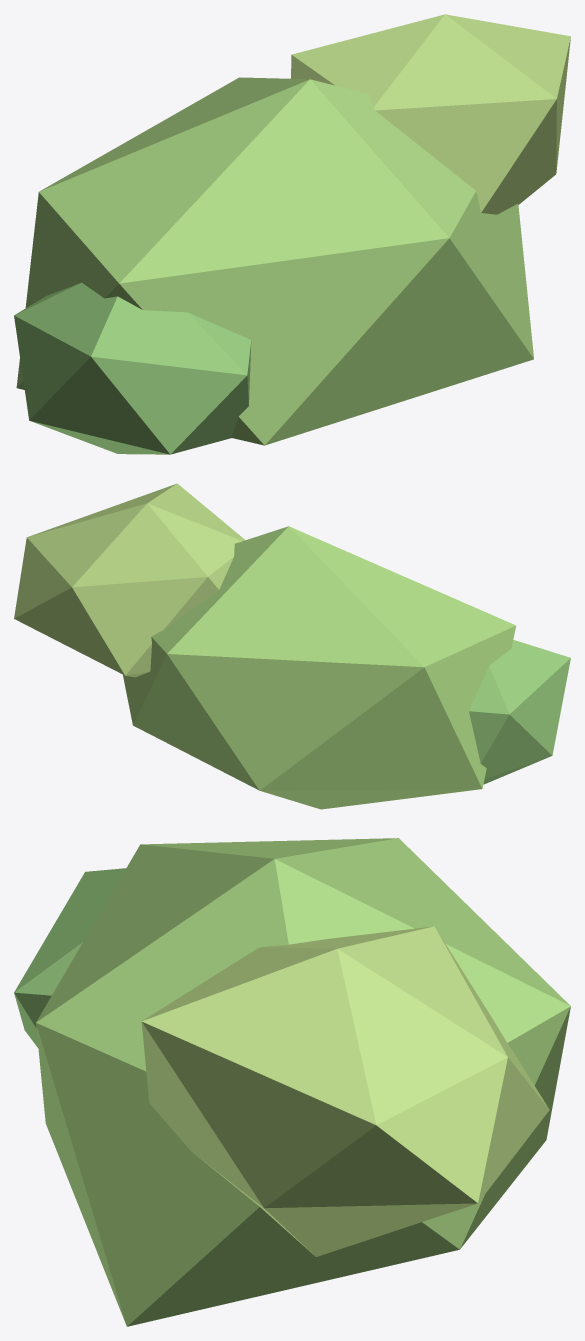
File: PG_Bush_A.fbx
The picture shows the model from 3 angles, top to bottom: view 1: azimuth 30°, elevation 25°; view 2: azimuth 150°, elevation 25°; view 3: azimuth 270°, elevation 25°; orthographic projection. The views are drawn at different scales.
Visible parts, largest first — view 1: PG_Bush_A; view 2: PG_Bush_A; view 3: PG_Bush_A.
Boxes of the visible parts, left/top/right/bottom form: PG_Bush_A: left=14, top=14, right=570, bottom=454; PG_Bush_A: left=14, top=483, right=570, bottom=809; PG_Bush_A: left=14, top=838, right=570, bottom=1326.
Size of the model in its own units: 1.22 by 0.6878 by 0.7408.
